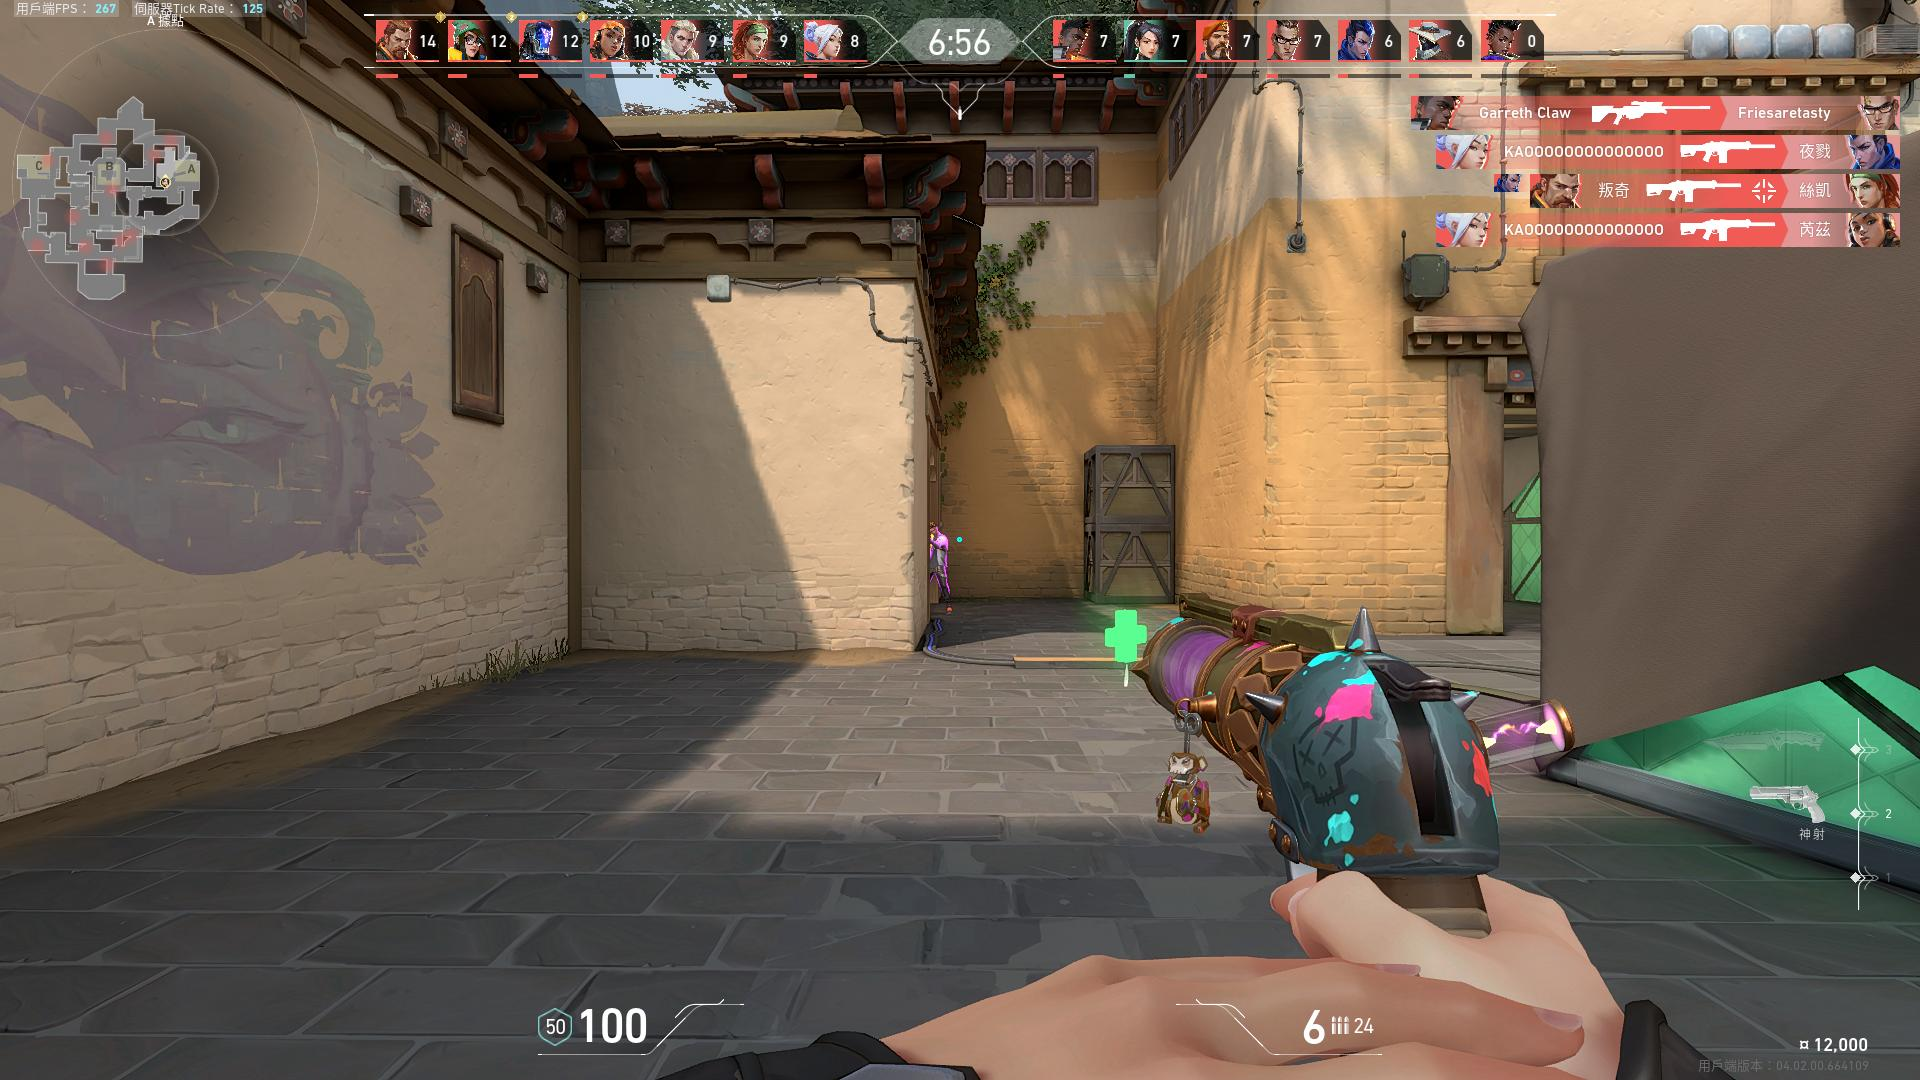enemyBody: (930, 538, 945, 562)
enemyHead: (931, 527, 938, 535)
